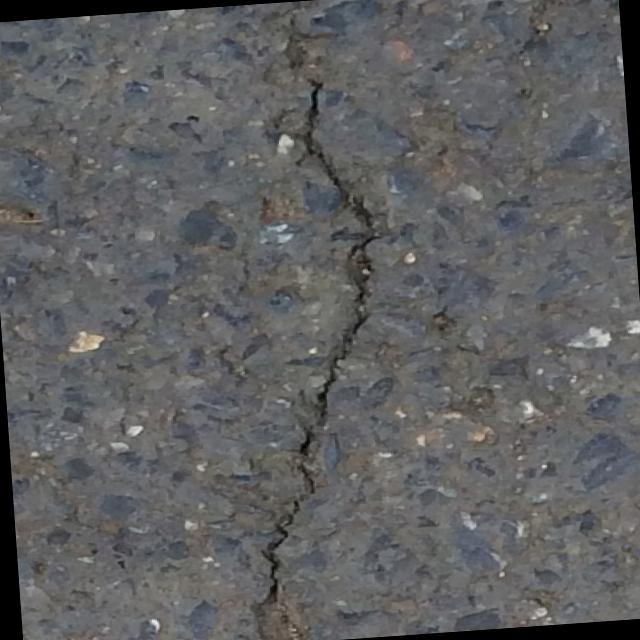crack: (192, 0, 405, 638)
